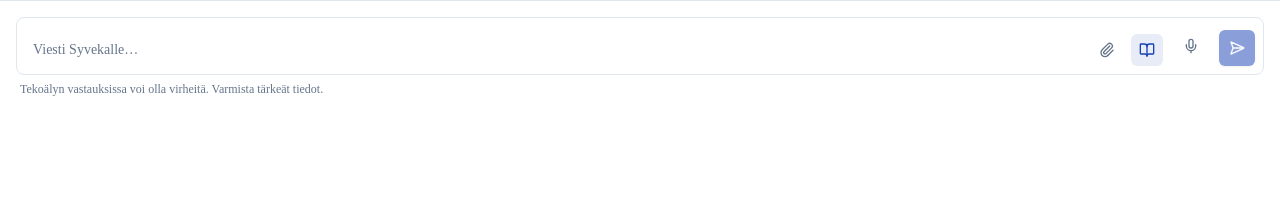
Scenario: Composer voice input › shows a localized, dismissible error and keeps typing available
The image size is (1280, 201).
Click the button named "Nauhoita ääniviesti": x=1191, y=46 [1171,26,1211,66]
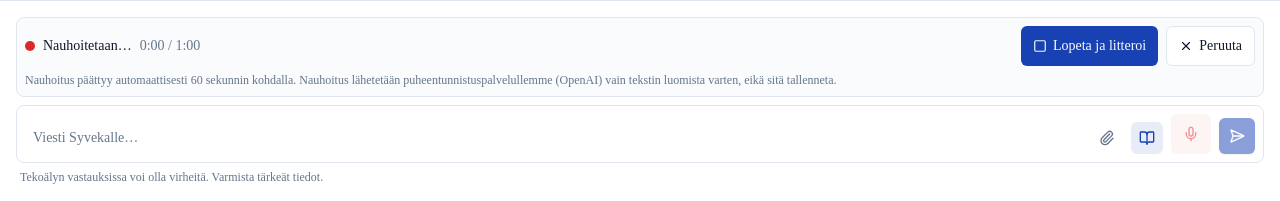
Click the button "Lopeta ja litteroi": x=1090, y=46 [1021,26,1158,66]
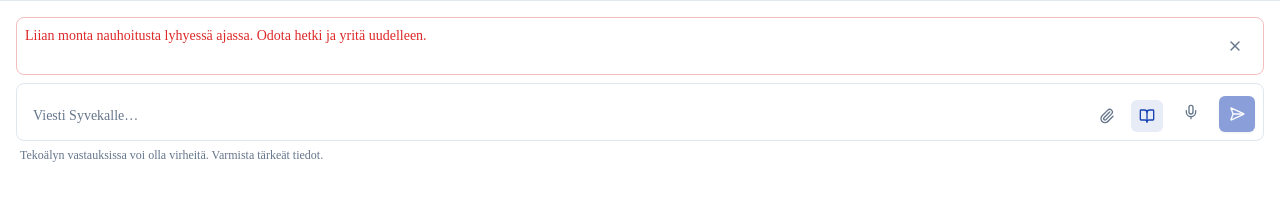
Expected: the text box with placeholder "Viesti Syvekalle…" is enabled, [25,100,1083,132]
Now the message reads "Liian monta nauhoitusta lyhyessä ajassa. Odota hetki ja yritä uudelleen.", box [25,28,427,43]
Click the button named "Sulje": x=1235, y=46 [1215,26,1255,66]
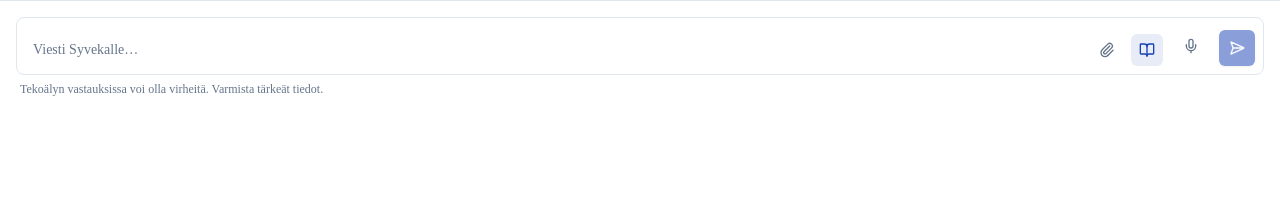
Now the message "Liian monta nauhoitusta lyhyessä ajassa. Odota hetki ja yritä uudelleen." is gone
